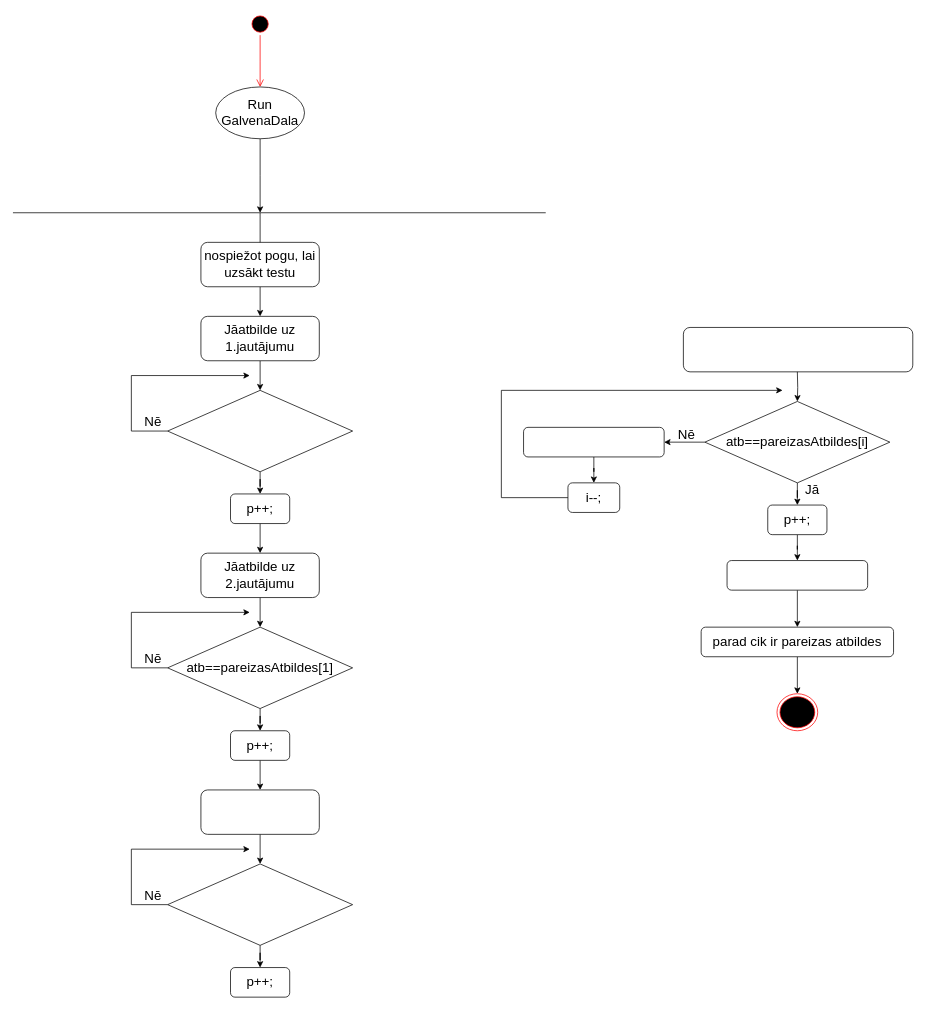
The diagram is 926 pixels wide and 1010 high, and some of its shapes have lost their labels. Here are the shapes that lost their labels. From the top down, the box of each, then its label:
(683, 327, 913, 372): i=0; i<jautajumuMasivs.size(); i++
(167, 390, 353, 472): atb==pareizasAtbildes[0]
(523, 427, 664, 457): parada ka nepareizi
(726, 560, 868, 590): parada ka pareizi
(200, 789, 319, 834): Jāatbilde uz 3.jautājumu
(167, 863, 353, 945): atb==pareizasAtbildes[2]
